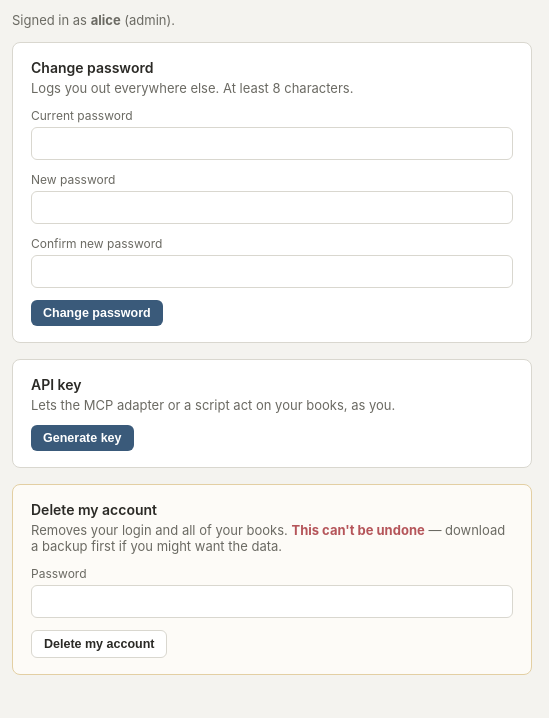
Test: shows why a password change was refused
In the password field labelled "Current password": point(272, 144) [31, 127, 513, 160], type "wrong"
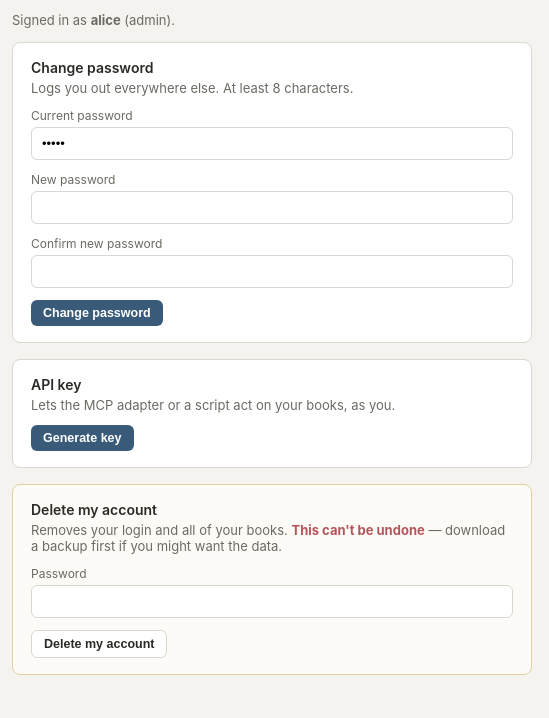
In the password field labelled "New password": point(272, 208) [31, 191, 513, 224], type "password2"
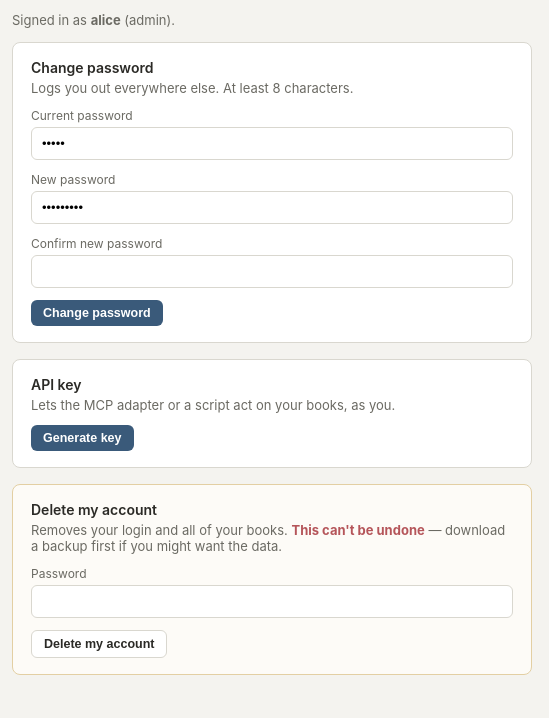
In the password field labelled "Confirm new password": point(272, 272) [31, 255, 513, 288], type "password2"
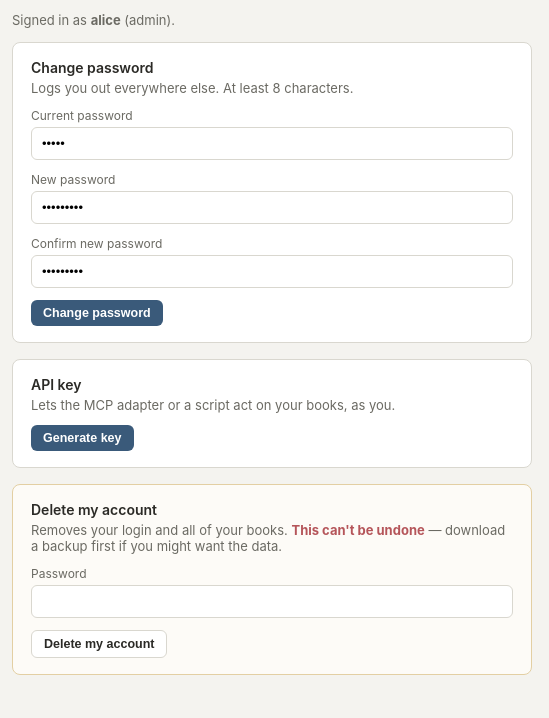
Click the button "Change password": point(97, 313) [31, 300, 163, 326]
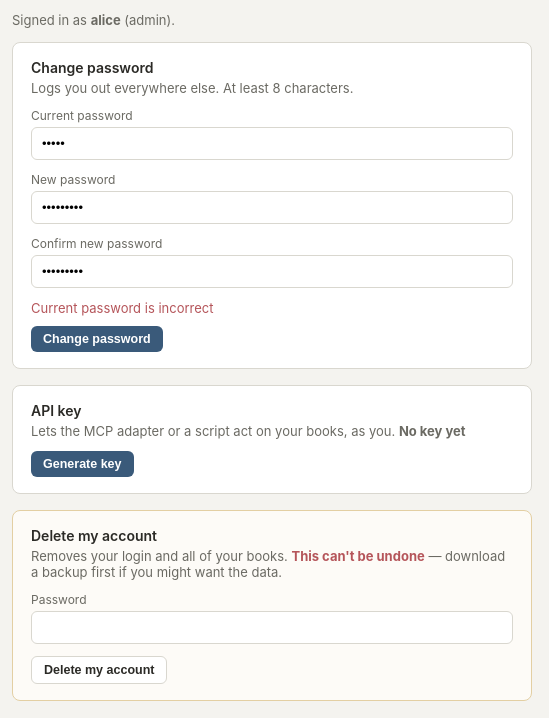
Check: the text "Current password is incorrect" is shown, box [31, 300, 214, 316]
